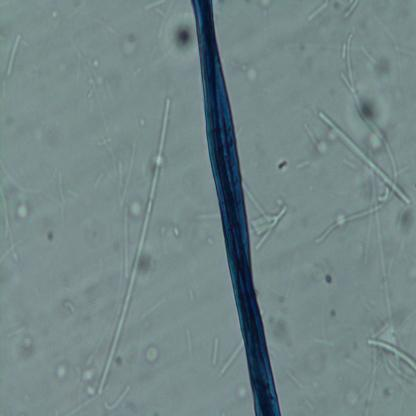Background material: (165, 11, 198, 62), (44, 165, 66, 209), (267, 305, 291, 345), (82, 350, 100, 399), (84, 58, 106, 95), (396, 206, 416, 244), (309, 260, 337, 287), (15, 330, 35, 361), (160, 219, 184, 242), (141, 340, 163, 364), (119, 32, 141, 55), (378, 53, 394, 82), (233, 380, 251, 405), (344, 384, 361, 410), (52, 358, 72, 380), (13, 199, 32, 220), (242, 66, 258, 84), (50, 4, 64, 23), (61, 300, 76, 314), (278, 159, 288, 174), (332, 309, 338, 318)
Cotton: (191, 0, 282, 416)
Glass filter fibre: (96, 97, 172, 396), (315, 110, 412, 206), (339, 33, 403, 175), (314, 190, 394, 246), (250, 187, 289, 249), (365, 337, 416, 378), (0, 186, 20, 265), (217, 338, 244, 379), (101, 383, 133, 412), (5, 32, 24, 77), (122, 204, 130, 281), (305, 1, 331, 22), (284, 369, 306, 392), (300, 121, 319, 147), (340, 1, 360, 20), (210, 336, 220, 369), (144, 0, 168, 12), (117, 158, 125, 190), (303, 395, 316, 412)
